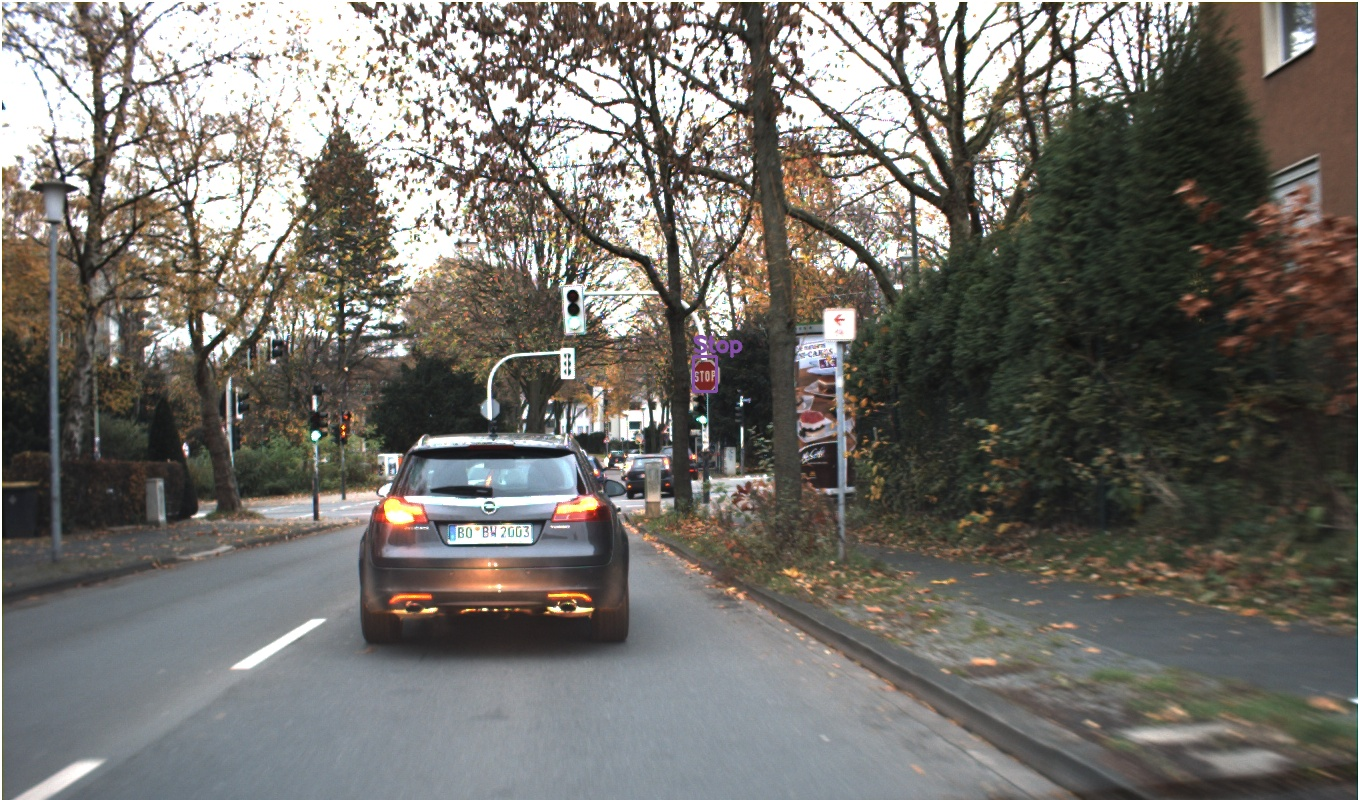Turn right ahead: (1110, 287, 1170, 348)
Yield: (1097, 210, 1184, 287)
